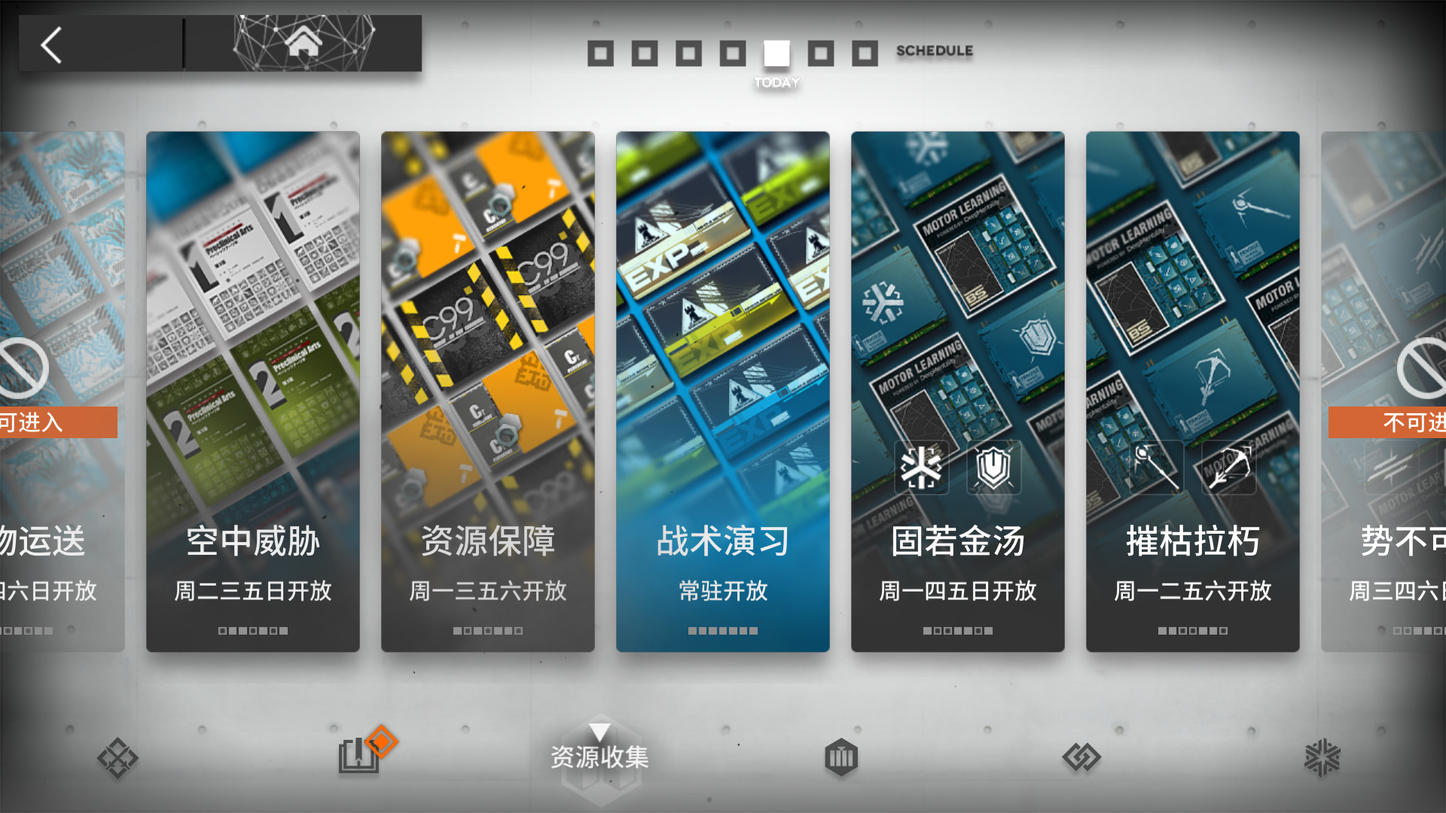Return_Button: (22, 15, 171, 75)
tactical_maneuver_button: (622, 132, 819, 636)
